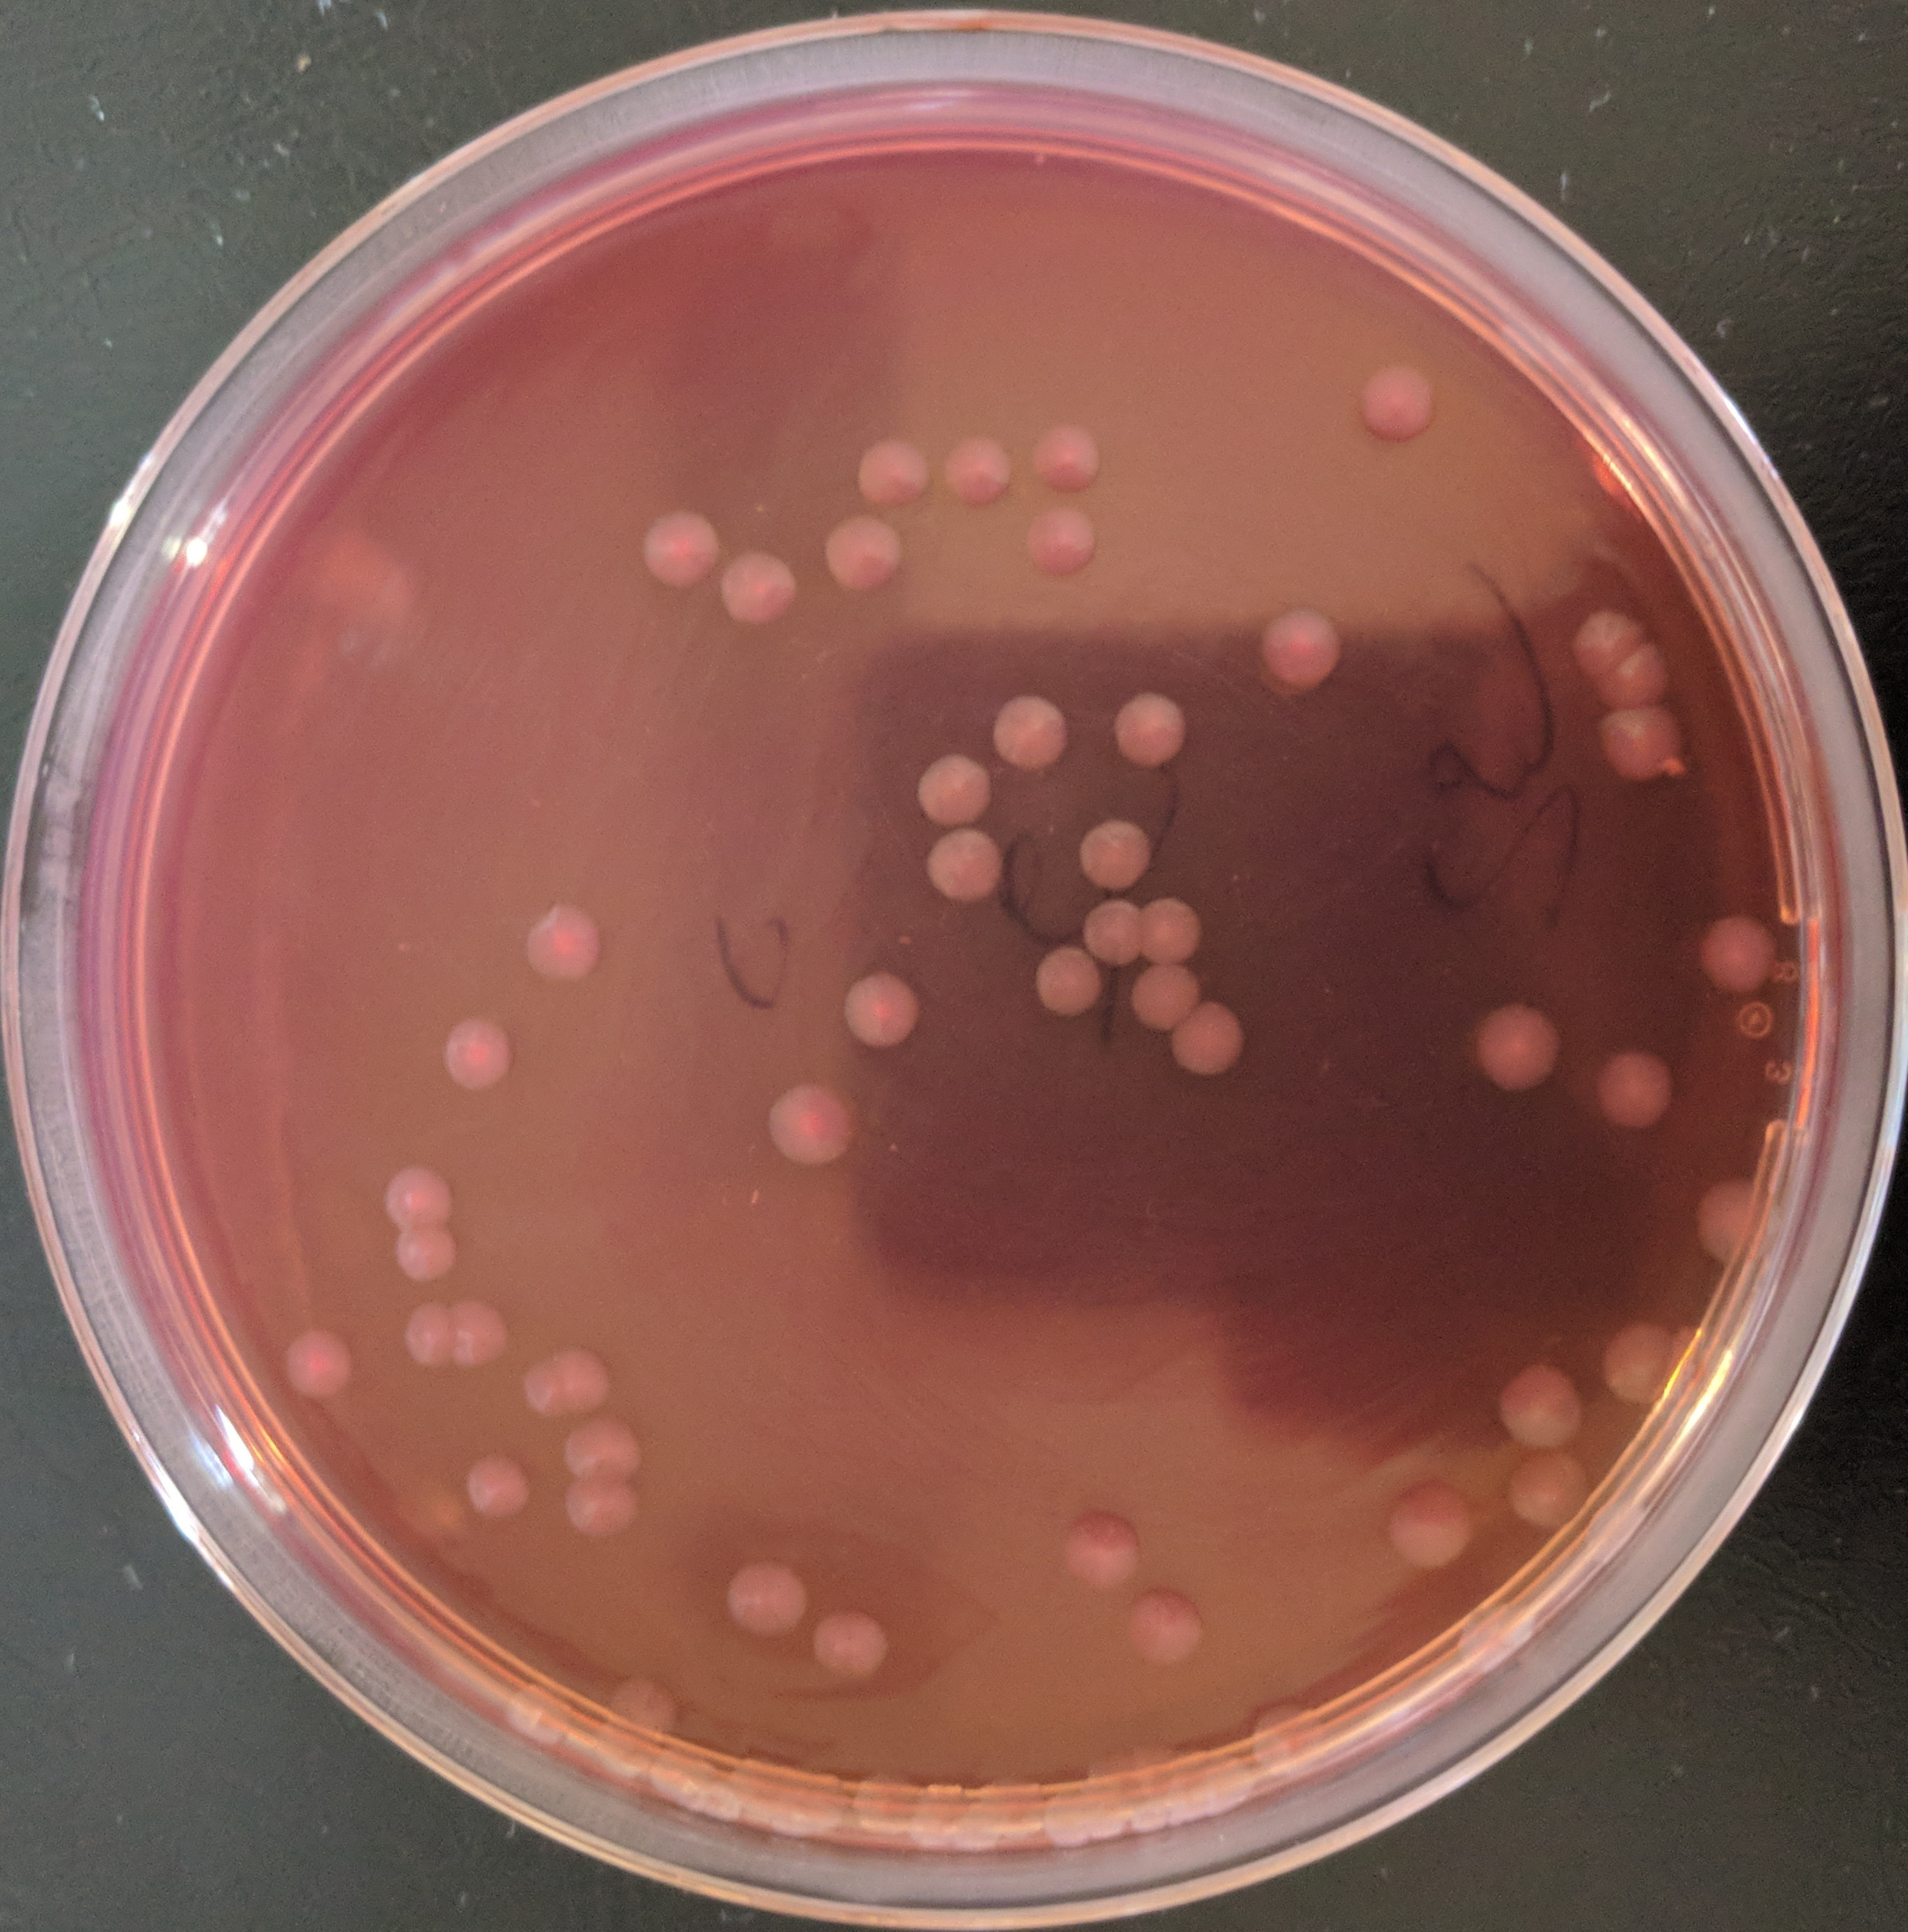sp17: (1462, 982, 1574, 1106), (1482, 1354, 1599, 1453), (1251, 594, 1358, 699), (1683, 1165, 1784, 1270), (1096, 683, 1202, 783), (1489, 1445, 1602, 1537), (1380, 1476, 1480, 1581), (832, 966, 942, 1060), (914, 816, 1015, 914), (1693, 905, 1794, 1003), (1354, 355, 1452, 454), (757, 1076, 861, 1167), (627, 503, 723, 601), (437, 1004, 531, 1104), (716, 1551, 812, 1647), (711, 538, 800, 641), (1587, 702, 1688, 791), (515, 891, 612, 982), (985, 685, 1082, 774), (1059, 1506, 1155, 1593), (793, 1602, 902, 1679), (1064, 804, 1153, 896), (1017, 416, 1116, 498), (1590, 1041, 1672, 1141), (902, 748, 1003, 828), (1590, 1322, 1677, 1411), (823, 507, 907, 599), (1022, 942, 1110, 1029), (849, 430, 942, 512), (376, 1162, 470, 1239), (559, 1420, 659, 1492), (1249, 1700, 1342, 1777), (1118, 954, 1202, 1038), (1169, 997, 1251, 1083), (1020, 500, 1110, 578), (280, 1317, 365, 1396), (545, 1345, 634, 1420), (1593, 636, 1686, 707), (1125, 1584, 1209, 1663), (935, 430, 1019, 507), (559, 1469, 645, 1544), (1139, 886, 1209, 973), (1573, 604, 1649, 681), (1076, 891, 1148, 973), (390, 1221, 474, 1289), (397, 1296, 460, 1380), (507, 1357, 580, 1429), (444, 1300, 514, 1370), (460, 1453, 535, 1518), (851, 1768, 924, 1832), (494, 1680, 564, 1747), (605, 1677, 681, 1733)
